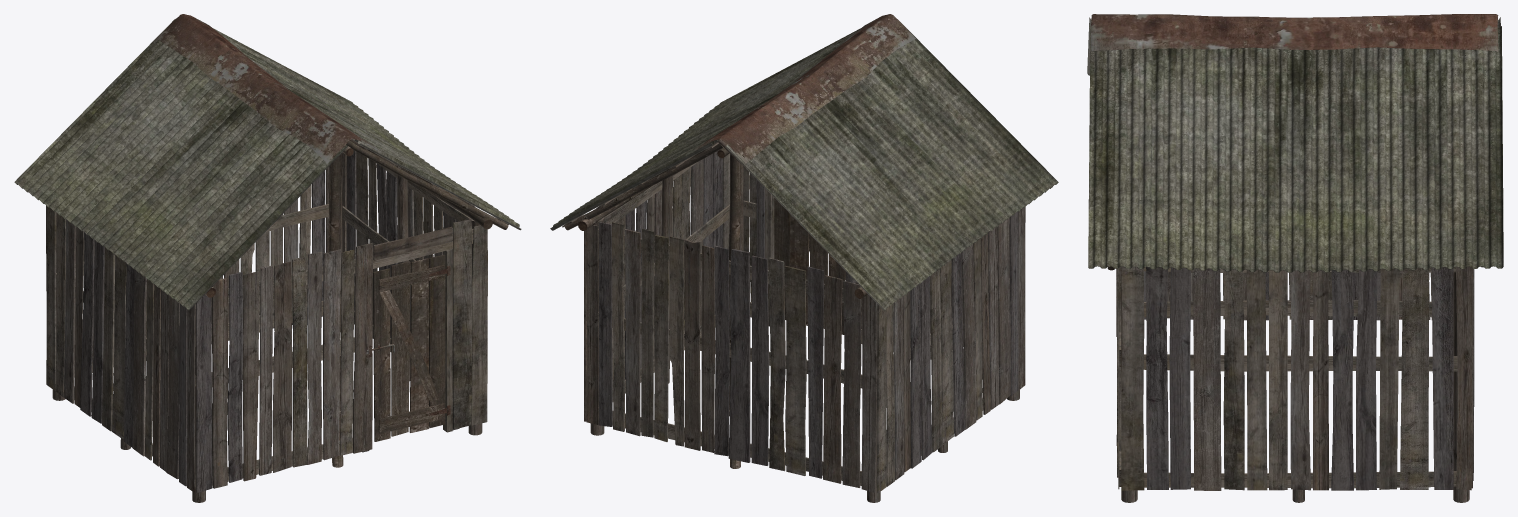
Rendered from old-shed.glb.
The picture shows the model from 3 angles, left to right: view 1: azimuth 30°, elevation 25°; view 2: azimuth 150°, elevation 25°; view 3: azimuth 270°, elevation 25°; orthographic projection. The views are drawn at different scales.
Visible parts, largest first — view 1: Base_Tex1_0, Roof_Tex2_0, Door_Tex2_0, Base_Tex2_0; view 2: Base_Tex1_0, Roof_Tex2_0, Base_Tex2_0, Door_Tex2_0; view 3: Roof_Tex2_0, Base_Tex1_0.
Part boxes in pixels (x1=…): Base_Tex1_0: x1=46, y1=139, x2=508, y2=502; Roof_Tex2_0: x1=14, y1=14, x2=521, y2=310; Door_Tex2_0: x1=373, y1=254, x2=445, y2=441; Base_Tex2_0: x1=205, y1=140, x2=508, y2=467; Base_Tex1_0: x1=562, y1=142, x2=1025, y2=502; Roof_Tex2_0: x1=550, y1=14, x2=1058, y2=310; Base_Tex2_0: x1=564, y1=139, x2=867, y2=468; Door_Tex2_0: x1=774, y1=198, x2=845, y2=334; Roof_Tex2_0: x1=1087, y1=14, x2=1503, y2=272; Base_Tex1_0: x1=1116, y1=266, x2=1474, y2=502.
Bounding box in the file's own units: 339 × 328 × 306.
2 materials, 2 textured.
